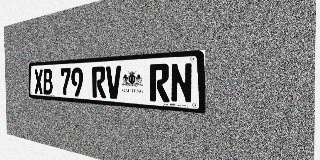7: (60, 68, 71, 96)
9: (71, 67, 83, 97)
B: (43, 69, 53, 95)
N: (170, 62, 193, 104)
R: (149, 63, 170, 102), (92, 66, 106, 98)
V: (106, 65, 121, 99)
X: (34, 69, 43, 94)
